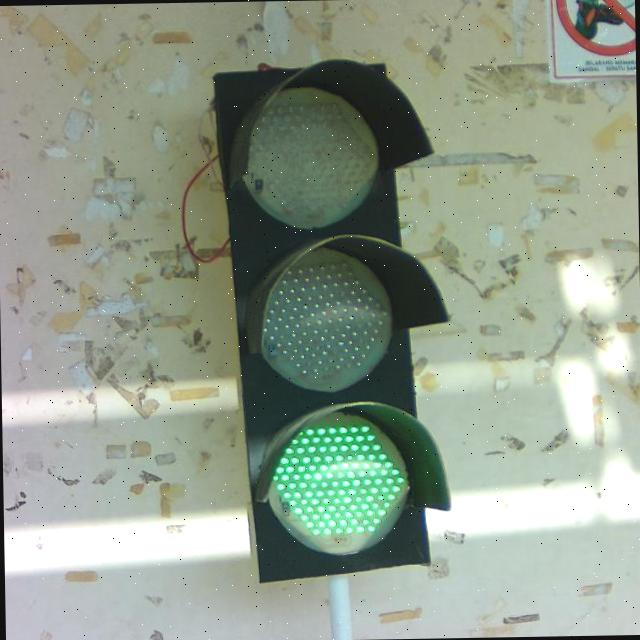green_light: (212, 64, 454, 578)
